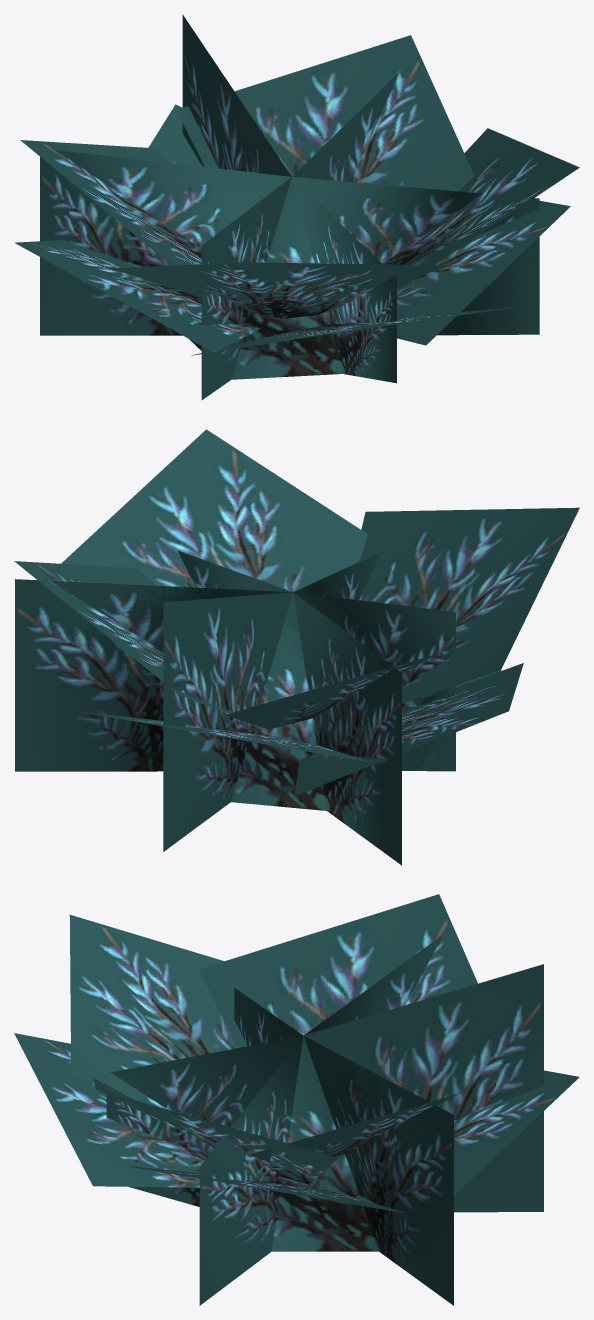
The model's file is silvermystbush03.obj.
The picture shows the model from 3 angles, top to bottom: view 1: azimuth 30°, elevation 25°; view 2: azimuth 150°, elevation 25°; view 3: azimuth 270°, elevation 25°; orthographic projection. The views are drawn at different scales.
Visible parts, largest first — view 1: silvermystbush03; view 2: silvermystbush03; view 3: silvermystbush03.
Part boxes in pixels (left/top/right/bottom): silvermystbush03: left=14, top=14, right=579, bottom=399; silvermystbush03: left=14, top=429, right=579, bottom=865; silvermystbush03: left=14, top=894, right=579, bottom=1305.
Size of the model in its own units: 1.93 by 0.9812 by 2.03.
Materials: 1 (1 with a texture image).
